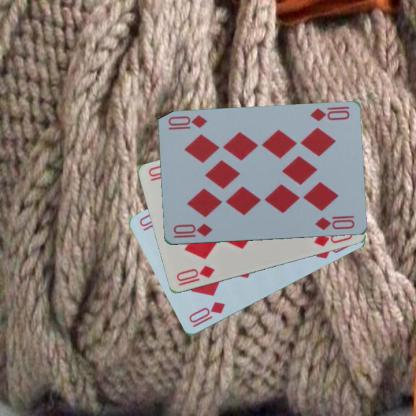10d: (186, 300, 227, 330), (173, 263, 216, 288), (171, 221, 214, 240), (307, 106, 351, 123)
